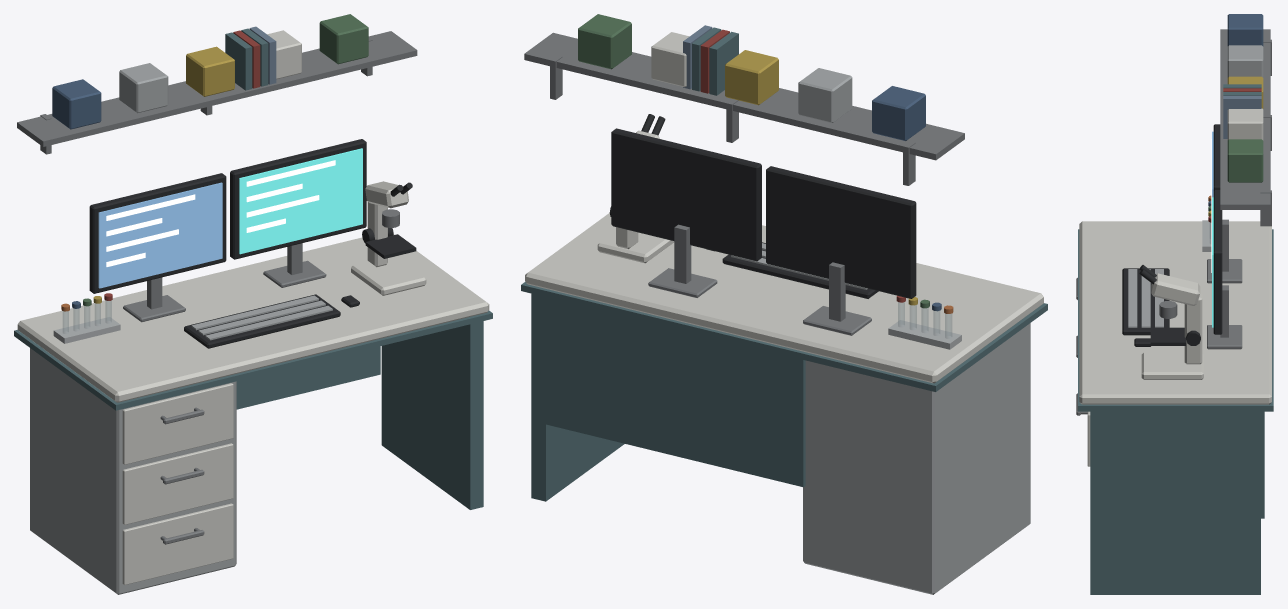
Rendered from astro_research_desk.fbx.
3 views of the same model, side by side, from view 1: azimuth 30°, elevation 25°; view 2: azimuth 150°, elevation 25°; view 3: azimuth 270°, elevation 25° (orthographic). The views are drawn at different scales.
Visible parts, largest first — view 1: ResearchDesk_Body; view 2: ResearchDesk_Body; view 3: ResearchDesk_Body.
Part boxes in pixels (<box>): ResearchDesk_Body: <box>14,14,492,594</box>; ResearchDesk_Body: <box>521,14,1047,594</box>; ResearchDesk_Body: <box>1076,14,1273,594</box>.
Size of the model in its own units: 282 by 321 by 133.
